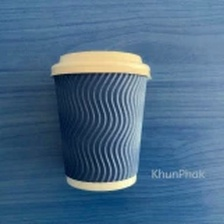paper_cup: (42, 45, 157, 196)
